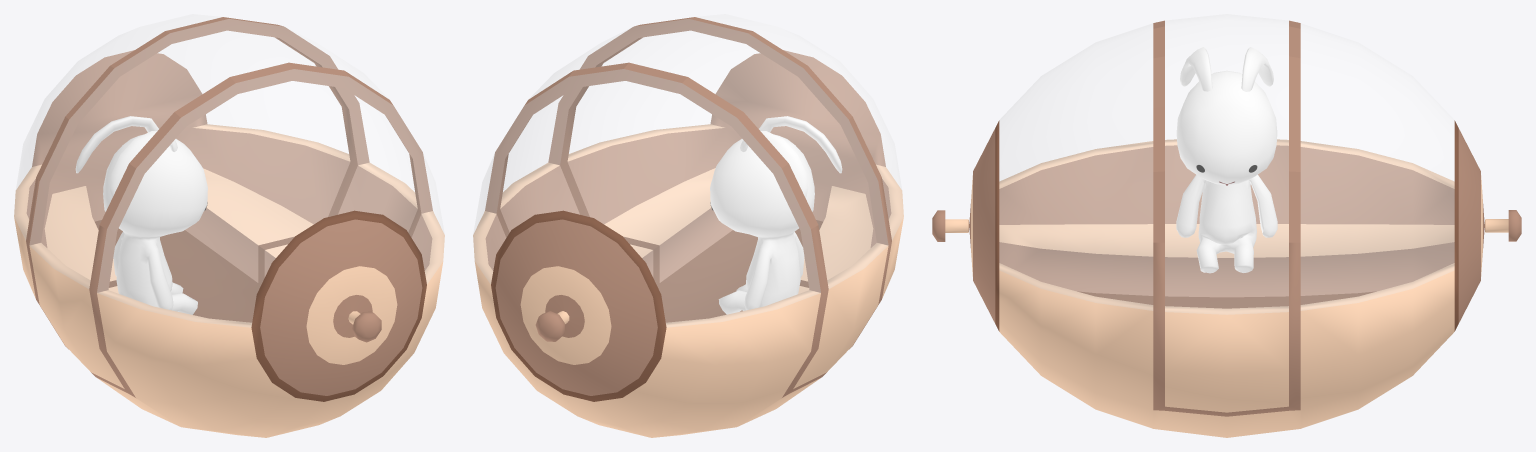
Rendered from Ferris_wheel_ball.glb.
3 renders of one model, left to right at view 1: azimuth 30°, elevation 25°; view 2: azimuth 150°, elevation 25°; view 3: azimuth 270°, elevation 25°, orthographic. The views are drawn at different scales.
Visible parts, largest first — view 1: Ferris_wheel_ball, Ferris_wheel_ball_glass, qmimi_body; view 2: Ferris_wheel_ball, Ferris_wheel_ball_glass, qmimi_body; view 3: Ferris_wheel_ball, Ferris_wheel_ball_glass, qmimi_body.
Part boxes in pixels (x1,y1,x2,y2): Ferris_wheel_ball: (14,17,444,437); Ferris_wheel_ball_glass: (14,14,444,327); qmimi_body: (75,116,207,314); Ferris_wheel_ball: (473,17,903,437); Ferris_wheel_ball_glass: (473,14,903,327); qmimi_body: (710,116,842,314); Ferris_wheel_ball: (932,20,1521,437); Ferris_wheel_ball_glass: (999,14,1454,314); qmimi_body: (1176,47,1277,273).
Bounding box in the file's own units: 8 × 8 × 11.21.
2 materials, 2 textured.
